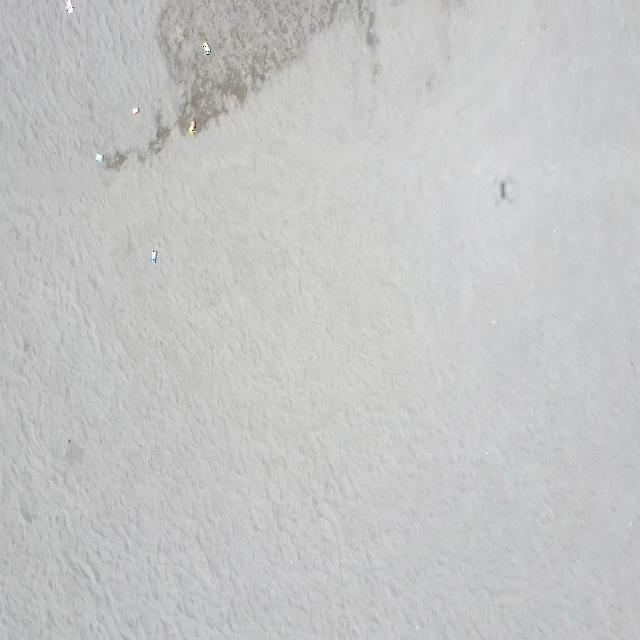Garbage: (187, 120, 195, 134), (64, 0, 72, 12), (202, 41, 207, 55), (95, 152, 103, 160), (151, 248, 155, 263), (131, 107, 139, 114)
